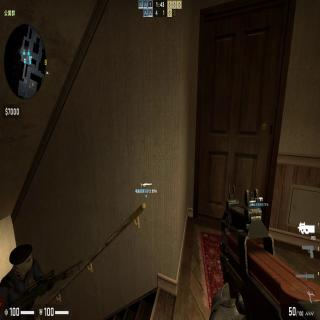T-Head: (8, 244, 37, 272)
